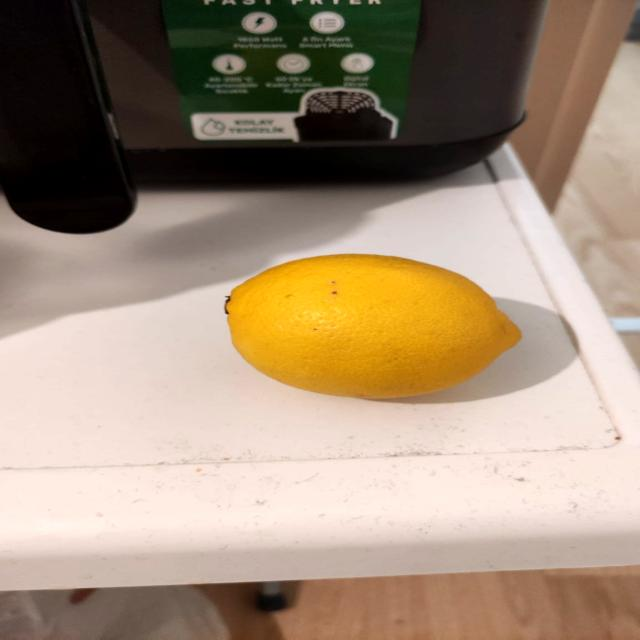lemon: (218, 252, 529, 403)
